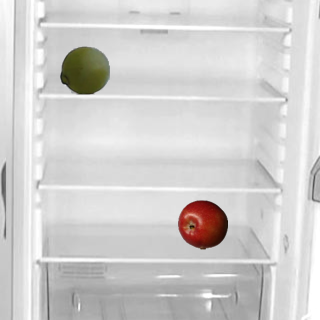Apple Braeburn: (177, 199, 227, 249)
Grape White 4: (59, 44, 109, 94)
